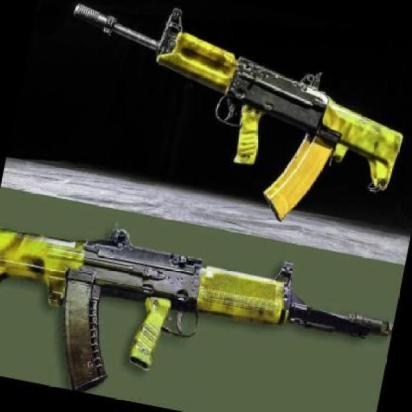Gun: (0, 219, 393, 412)
